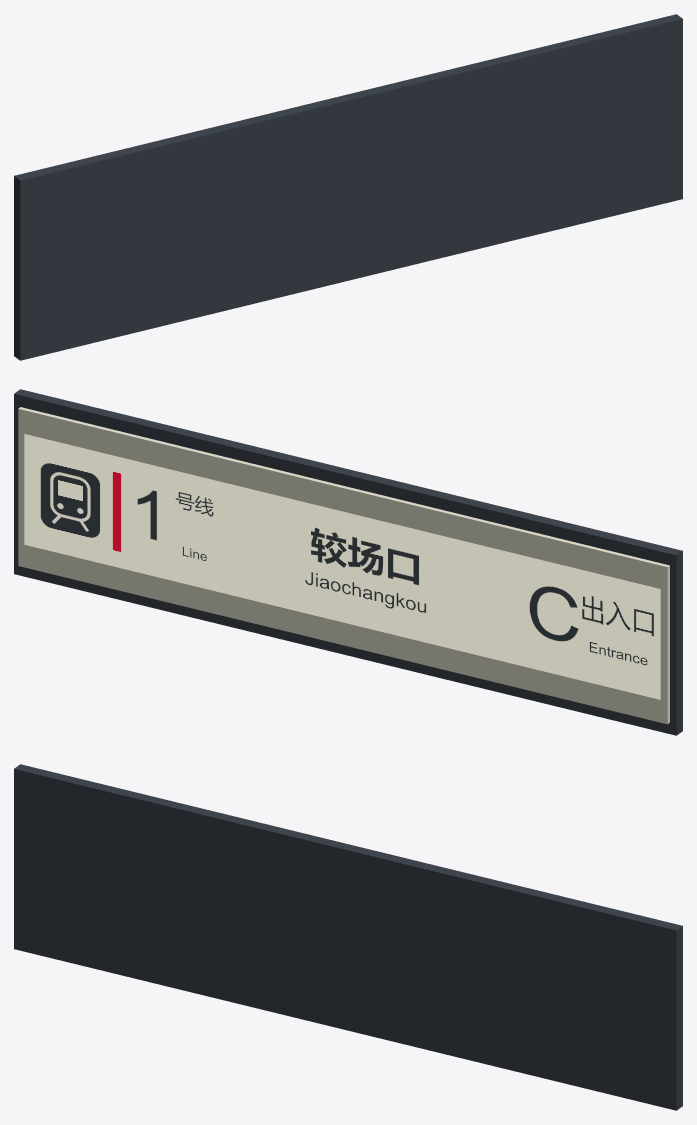
Rendered from city-doorway-chongqing.glb.
3 renders of one model, top to bottom at view 1: azimuth 30°, elevation 25°; view 2: azimuth 150°, elevation 25°; view 3: azimuth 330°, elevation 25°, orthographic.
Parts seen in each view (by area): view 1: CityDoorwayChongqing; view 2: exit-doorway-sign, CityDoorwayChongqing; view 3: CityDoorwayChongqing.
Part boxes in pixels (left/top/right/bottom): CityDoorwayChongqing: left=14, top=14, right=682, bottom=360; exit-doorway-sign: left=24, top=434, right=660, bottom=699; CityDoorwayChongqing: left=14, top=389, right=682, bottom=735; CityDoorwayChongqing: left=14, top=764, right=682, bottom=1110.
Bounding box in the file's own units: 3 × 0.78 × 0.072.
Materials: 3 (1 with a texture image).
